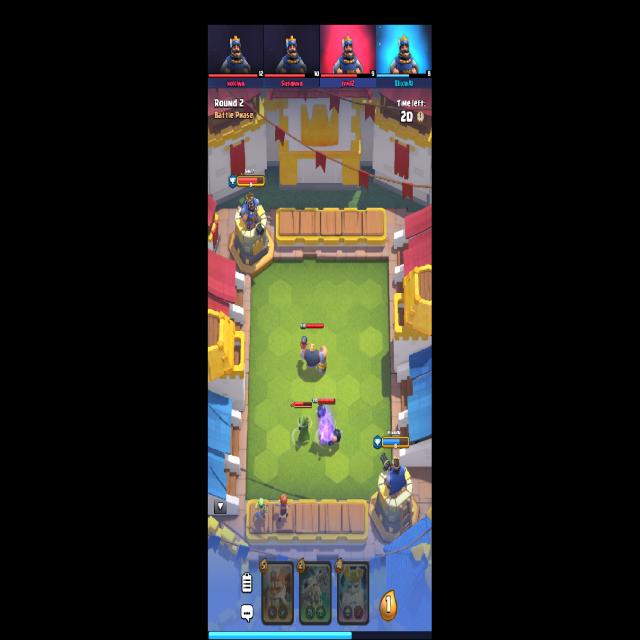bandit: (296, 414, 312, 445)
card_monk: (261, 560, 292, 622)
card_royal_ghost: (337, 561, 369, 624)
card_skeleton_dragon: (298, 561, 330, 622)
mega_knight: (317, 406, 342, 446)
royal_giant: (300, 334, 329, 374)
spear_goblin: (253, 498, 270, 523)
valkyrie: (275, 496, 291, 525)
